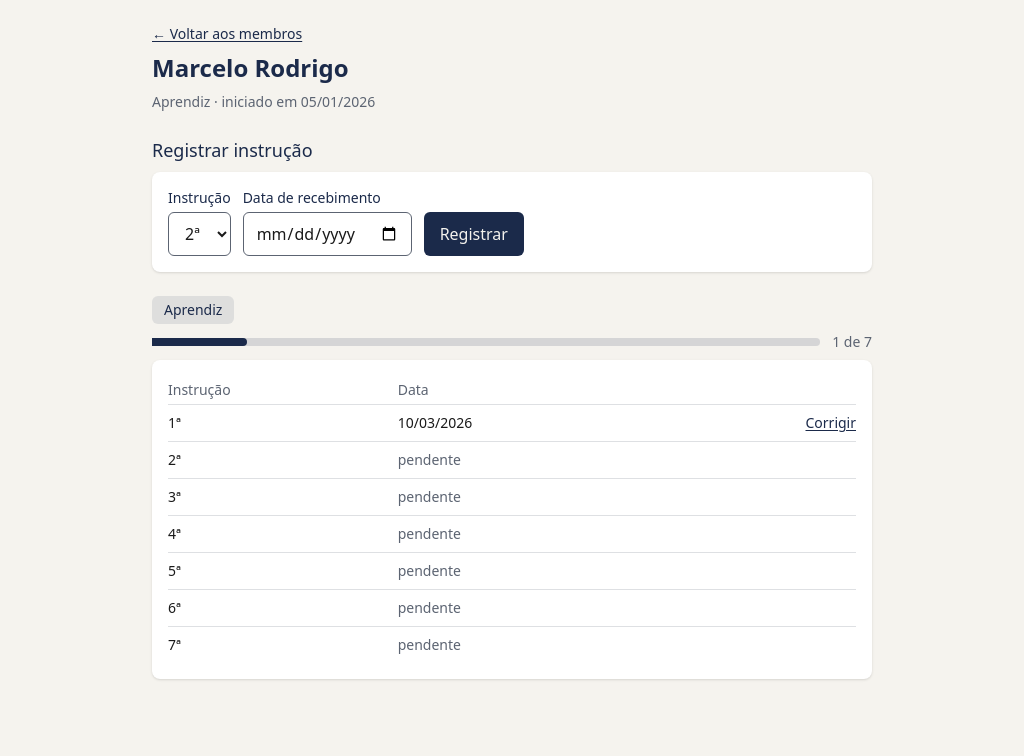
Test: MembroDetalhesPage › admin corrige a data e a tabela marca a correção
Click the button "Corrigir": (831,423) [806,413,856,433]
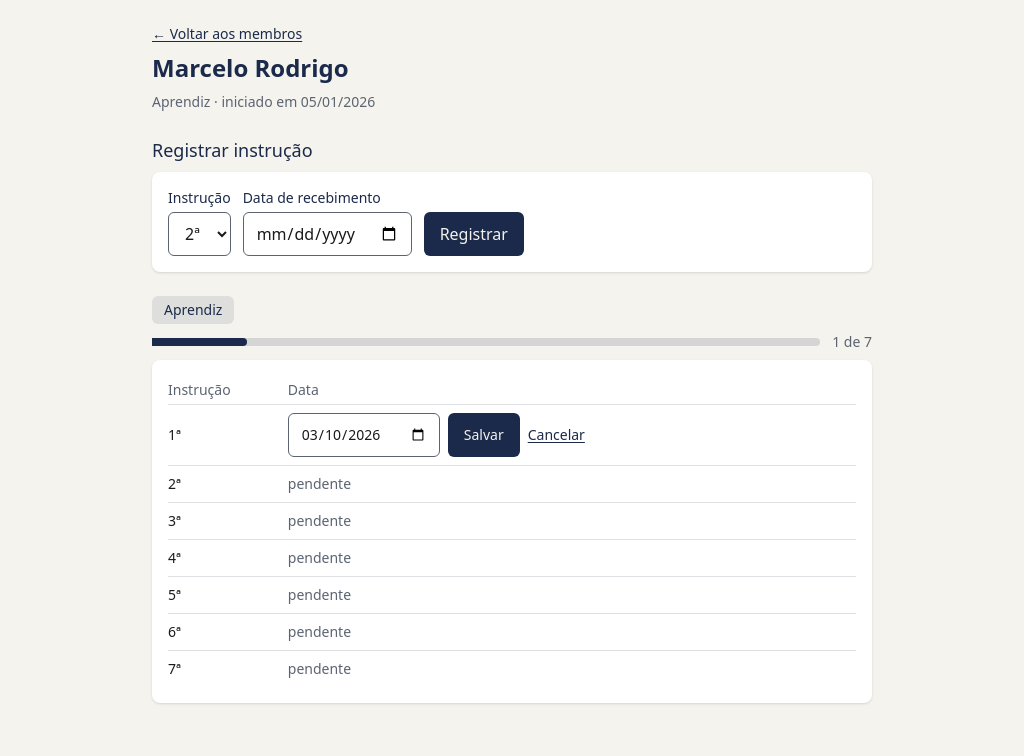
In the date field named "Nova data": (364,435) [288,413,440,457], type "2026-03-17"
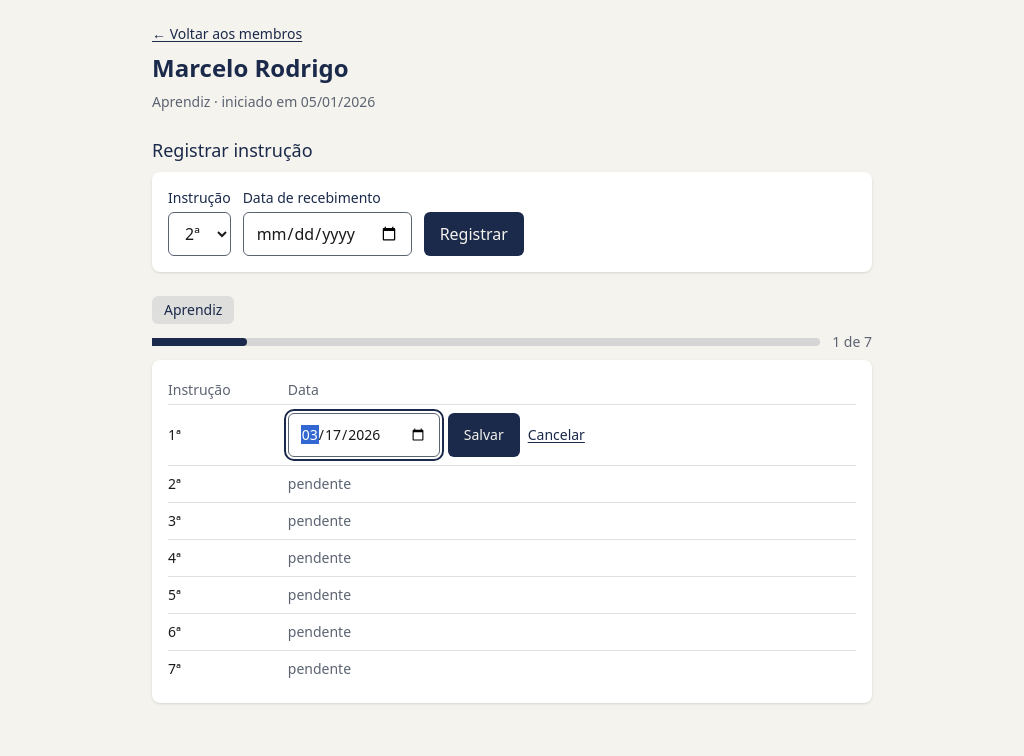
Click the button "Salvar": (484,435) [448,413,520,457]
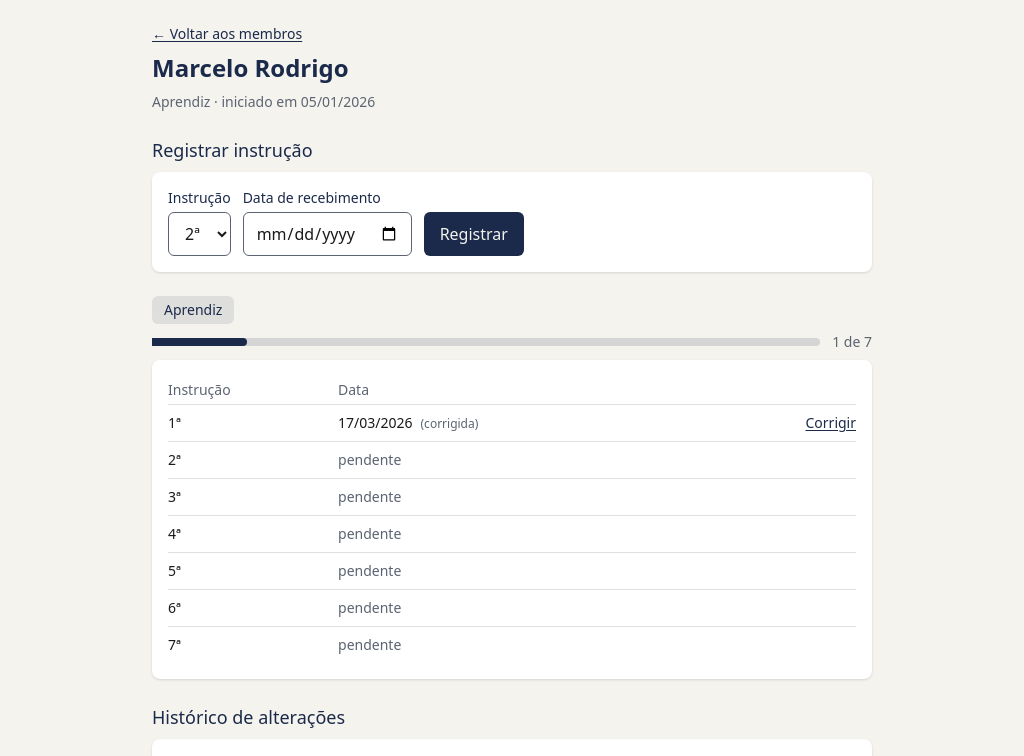
Result: the text "17/03/2026" is shown at [338,413,412,432]
Result: the text "(corrigida)" is shown at [420,415,478,432]
